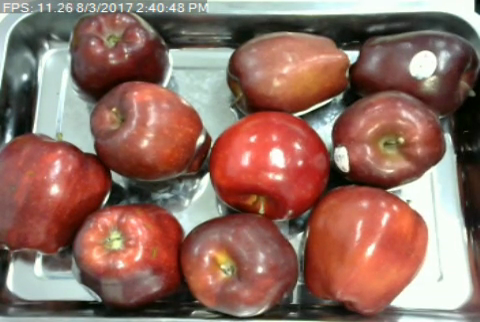Apple: (303, 184, 430, 318), (0, 128, 114, 259), (207, 109, 334, 224), (178, 209, 302, 318), (87, 79, 214, 183), (69, 201, 186, 309), (344, 28, 480, 120), (329, 87, 448, 190), (222, 28, 355, 115), (67, 7, 172, 97)
